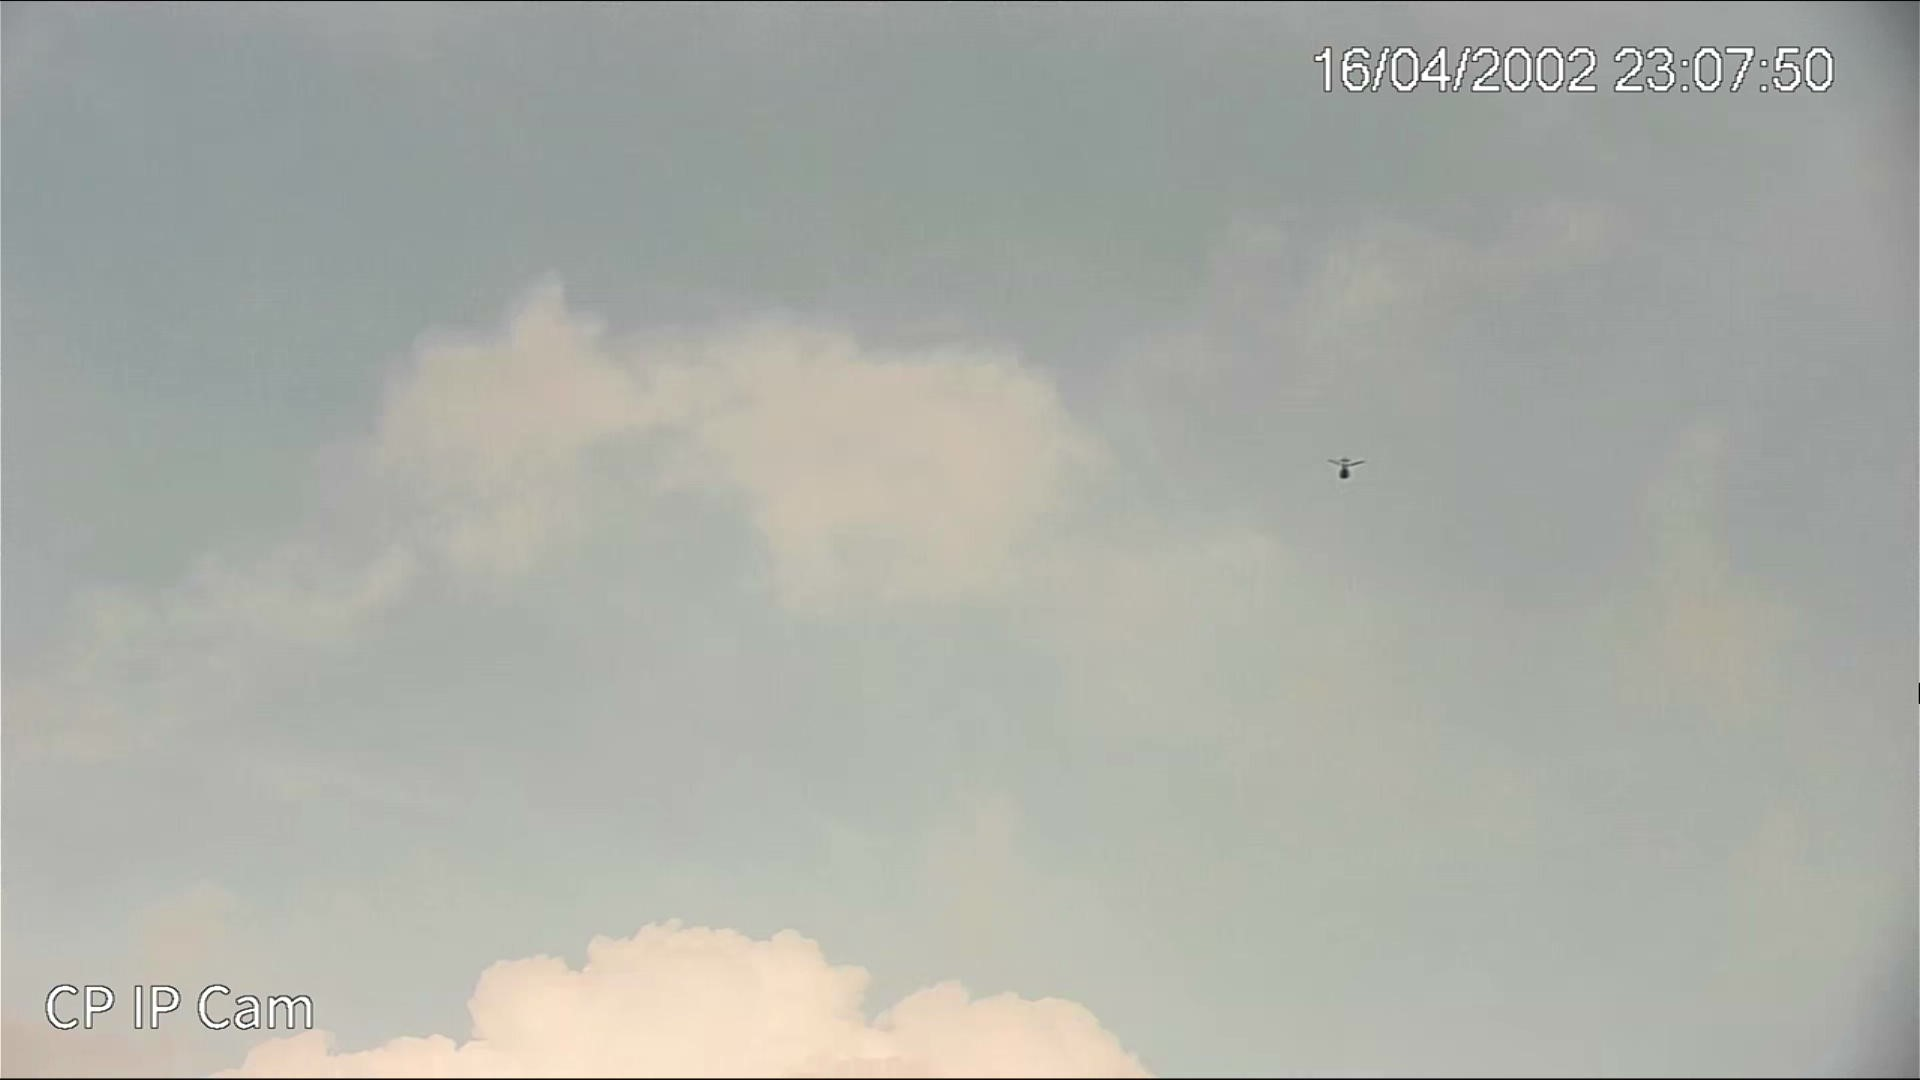SU_30: (1327, 456, 1365, 480)
